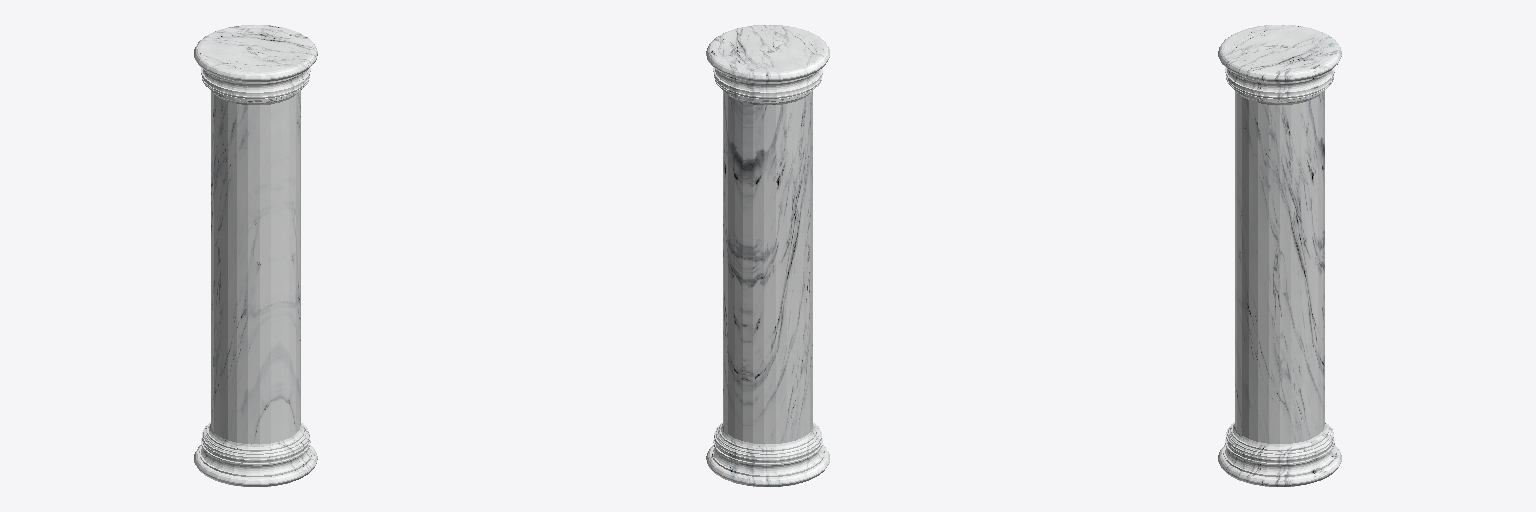
3 renders of one model, left to right at view 1: azimuth 30°, elevation 25°; view 2: azimuth 150°, elevation 25°; view 3: azimuth 270°, elevation 25°, orthographic.
Visible parts, largest first — view 1: Pillar_nontexture:Pillar; view 2: Pillar_nontexture:Pillar; view 3: Pillar_nontexture:Pillar.
Part boxes in pixels (left/top/right/bottom): Pillar_nontexture:Pillar: left=194, top=25, right=317, bottom=486; Pillar_nontexture:Pillar: left=706, top=25, right=829, bottom=486; Pillar_nontexture:Pillar: left=1218, top=25, right=1341, bottom=486.
Size of the model in its own units: 0.9943 by 3.67 by 0.9963.
1 materials, 1 textured.